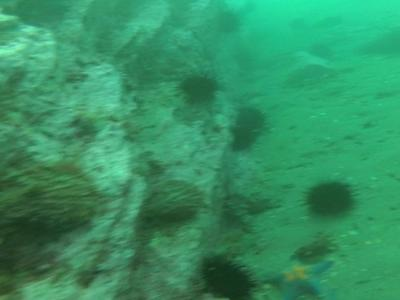urchin: (197, 255, 265, 294), (301, 179, 358, 218), (230, 103, 265, 152), (177, 72, 220, 105)
